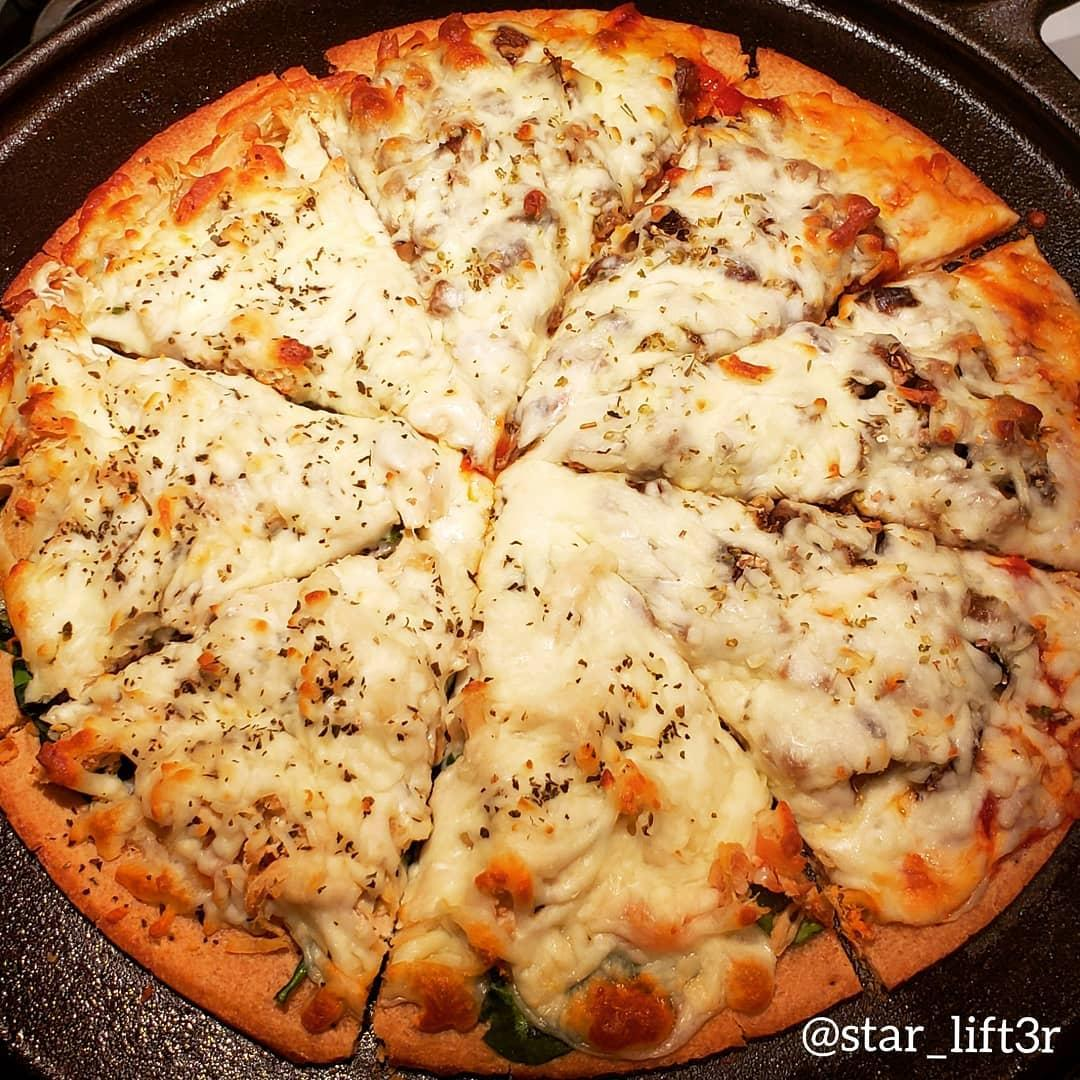Pizza: (0, 8, 1080, 1080)
